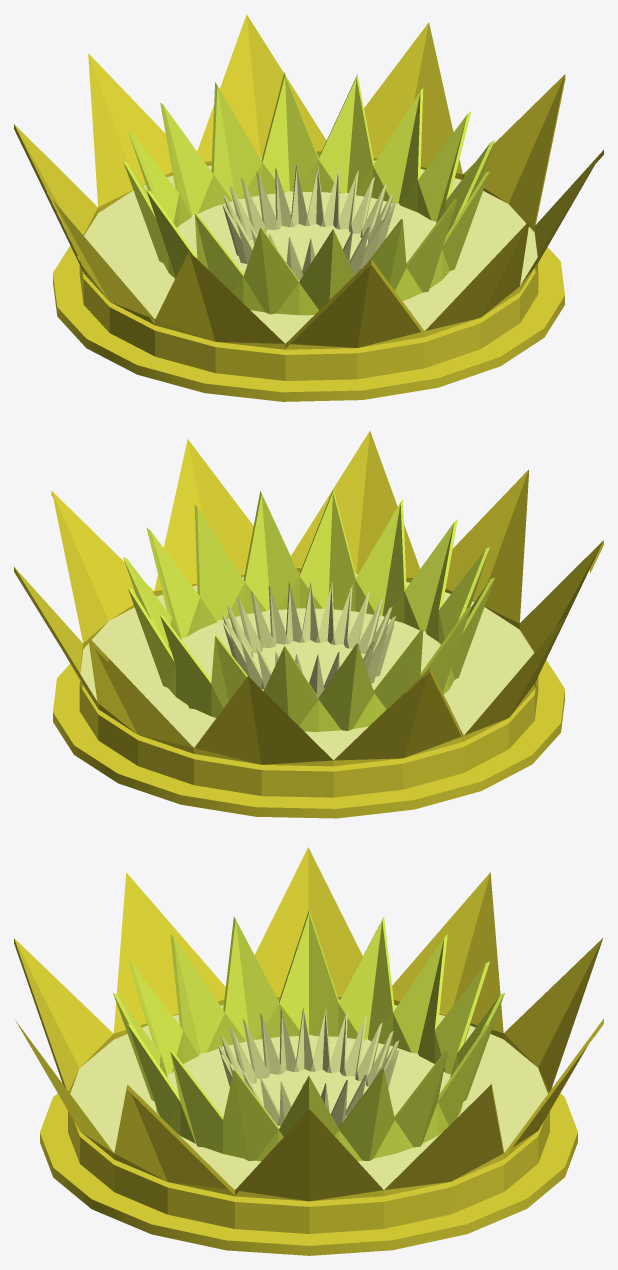
Rendered from portal_abrir_000001.obj.
The picture shows the model from 3 angles, top to bottom: view 1: azimuth 30°, elevation 25°; view 2: azimuth 150°, elevation 25°; view 3: azimuth 270°, elevation 25°; orthographic projection. The views are drawn at different scales.
Visible parts, largest first — view 1: pCylinder1, Cylinder, Cylinder.001; view 2: pCylinder1, Cylinder, Cylinder.001; view 3: pCylinder1, Cylinder, Cylinder.001.
Part boxes in pixels (x1,y1,x2,y2): pCylinder1: [14, 14, 603, 401]; Cylinder: [123, 72, 494, 315]; Cylinder.001: [222, 164, 395, 280]; pCylinder1: [14, 431, 603, 818]; Cylinder: [123, 489, 494, 731]; Cylinder.001: [222, 580, 395, 697]; pCylinder1: [14, 847, 603, 1255]; Cylinder: [113, 910, 504, 1161]; Cylinder.001: [218, 1007, 399, 1127].
Size of the model in its own units: 1.97 by 0.5768 by 1.88.
Materials: 4 (4 with a texture image).
